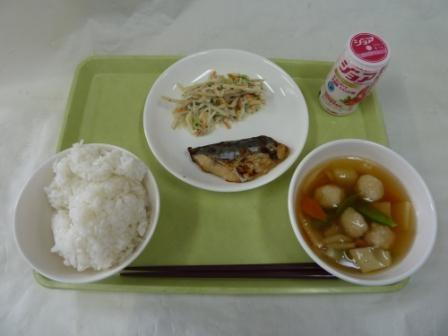Drinkable yogurt: (319, 23, 392, 123)
Fish: (184, 127, 294, 183)
Rice: (15, 142, 158, 292)
Salad: (157, 58, 286, 132)
Soups: (293, 131, 429, 279)
